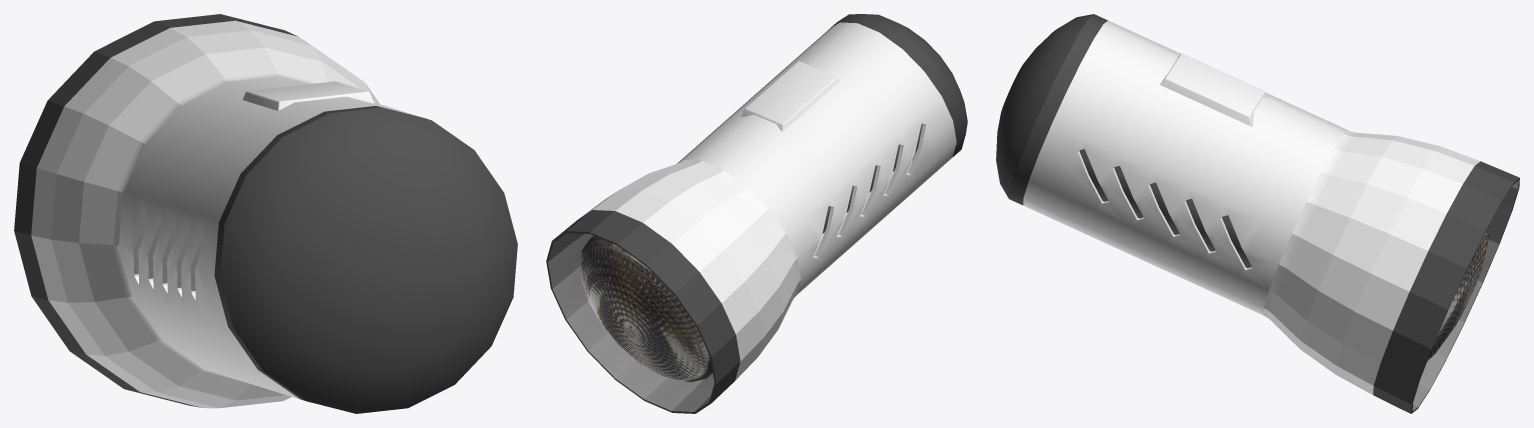
File: finalLamp.fbx
3 views of the same model, side by side, from view 1: azimuth 30°, elevation 25°; view 2: azimuth 150°, elevation 25°; view 3: azimuth 270°, elevation 25° (orthographic). The views are drawn at different scales.
Visible parts, largest first — view 1: lamp3; view 2: lamp3; view 3: lamp3.
Boxes of the visible parts, left/top/right/bottom form: lamp3: left=14, top=14, right=517, bottom=413; lamp3: left=546, top=14, right=967, bottom=413; lamp3: left=996, top=14, right=1519, bottom=413.
Bounding box in the file's own units: 8.26 × 9.1 × 12.86.
Materials: 3 (1 with a texture image).
